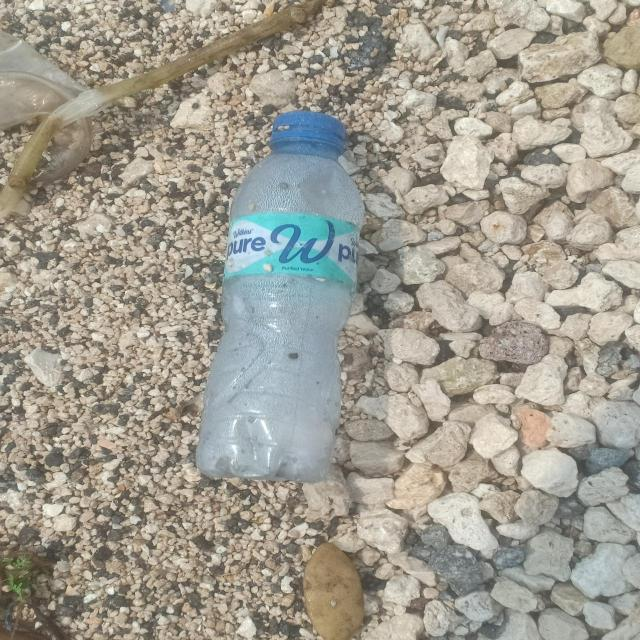plastic_waste: (191, 112, 366, 486), (1, 19, 87, 146)
